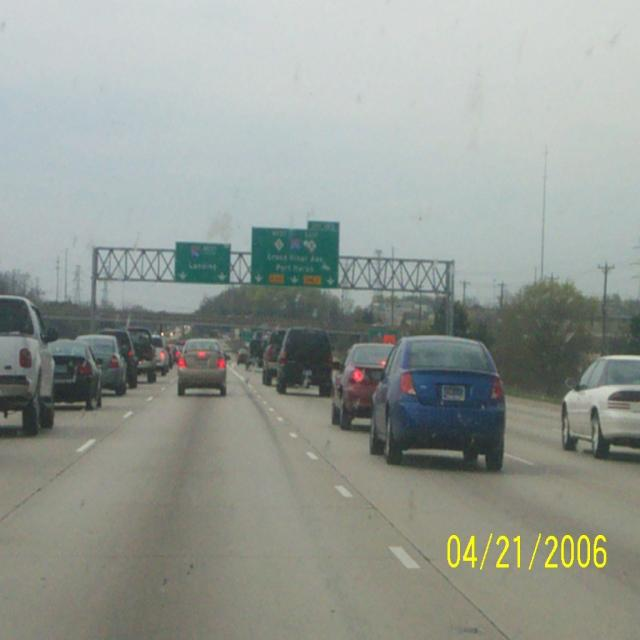car: (360, 332, 516, 476), (170, 331, 230, 396)
